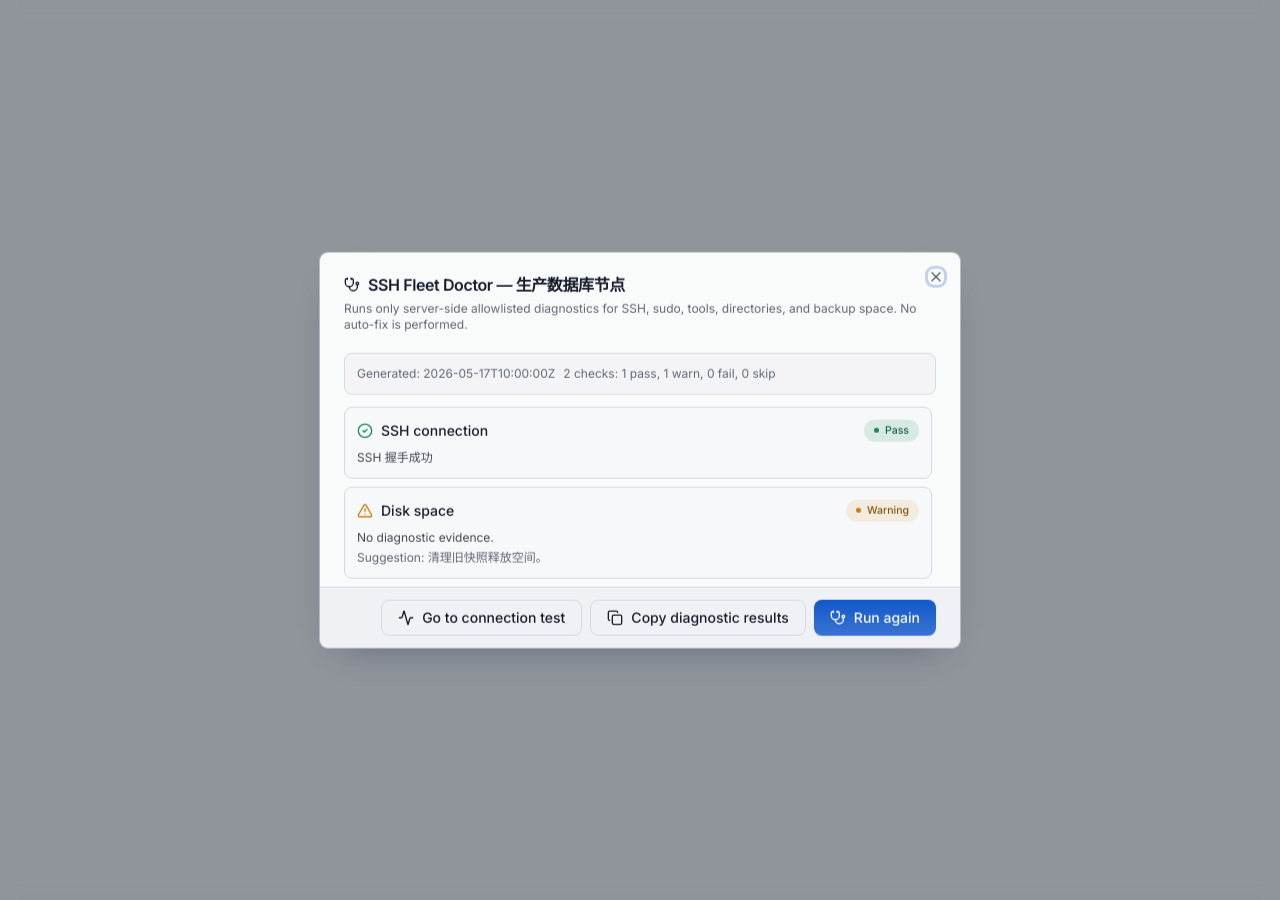
Scenario: NodeDoctorDialog 前往连接测试 › 回调返回 false 时显示说明，换节点后清除
The width and height of the screenshot is (1280, 900).
What coordinates should you click on to do the following:
click the button "Go to connection test"
I would click on:
 (482, 617)
Its box is [381,599,582,635].
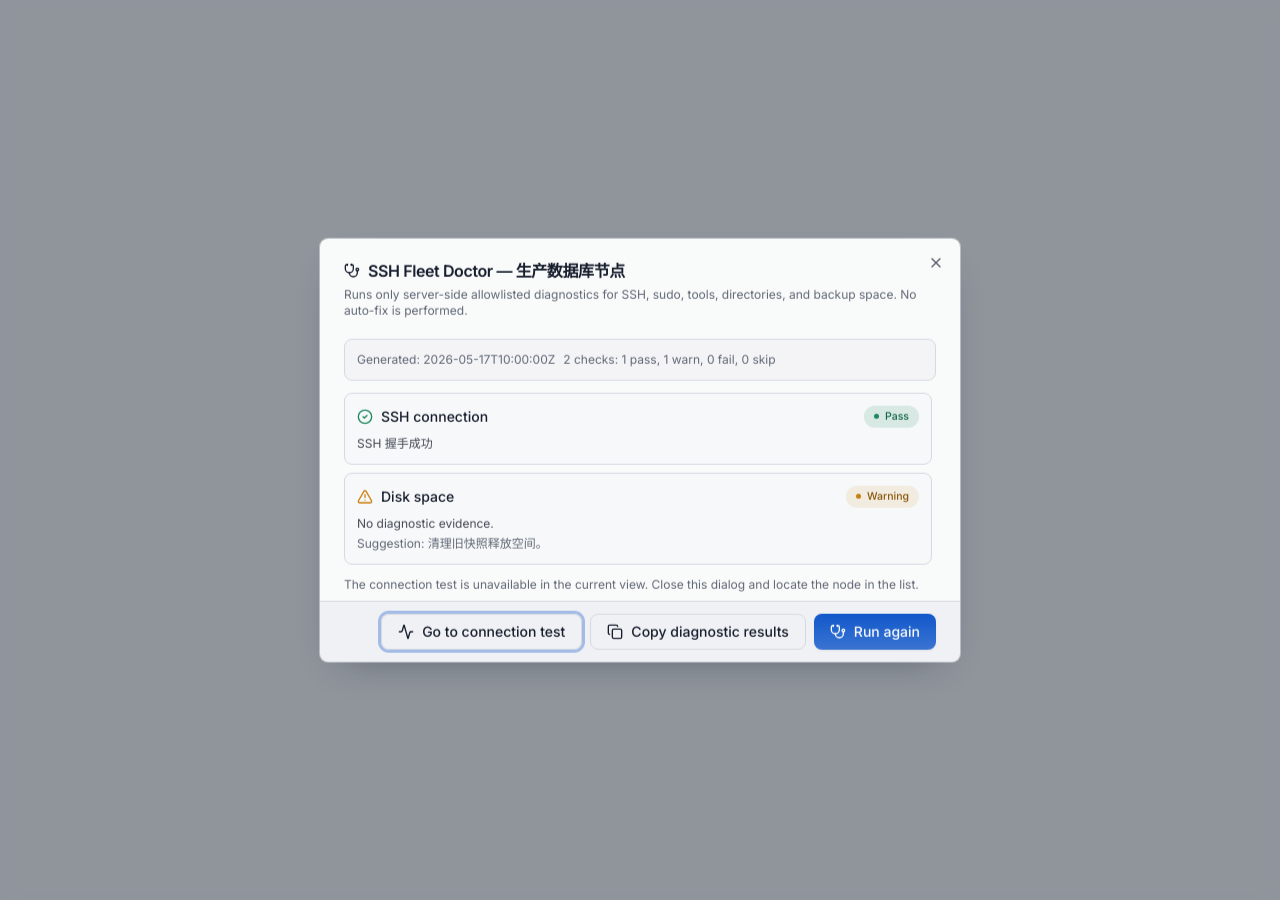
Expected: the text "The connection test is unavailable in the current view. Close this dialog and locate the node in the list." is shown, [344,576,919,591]
